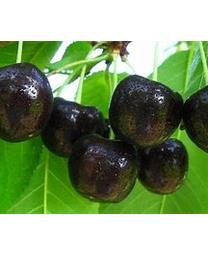cherry: (109, 74, 184, 150), (68, 133, 138, 202), (44, 96, 111, 157), (1, 62, 52, 142), (135, 139, 189, 195)
